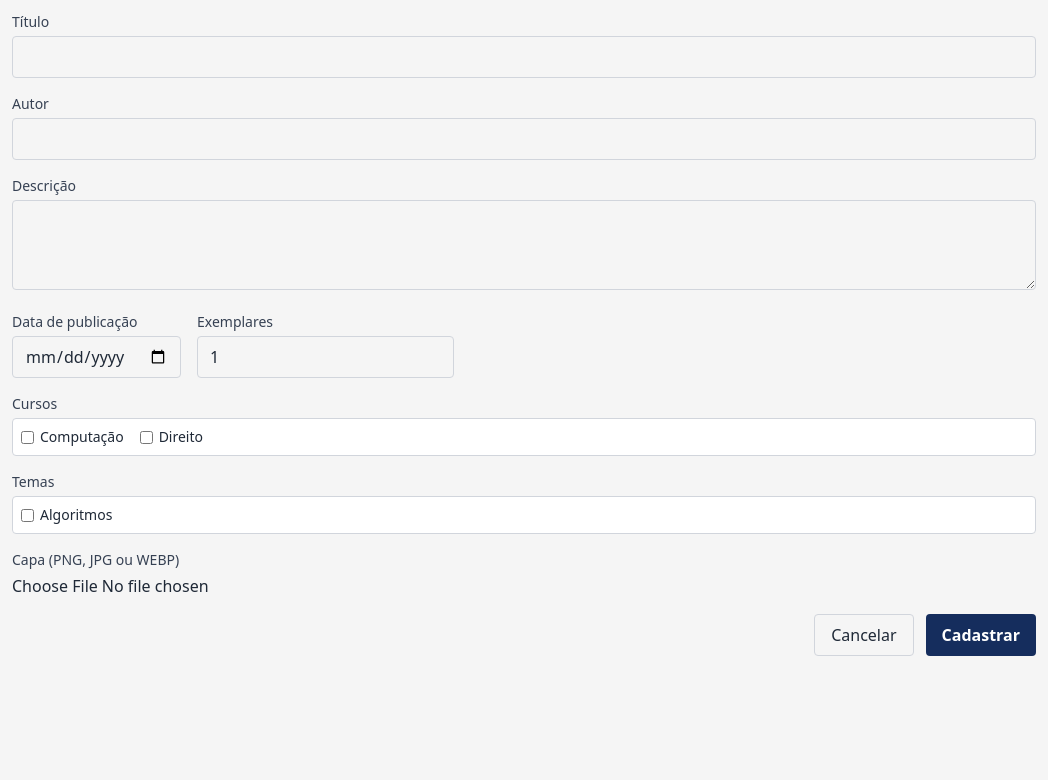
FormMaterial › não envia nada e aponta cada campo obrigatório vazio
Expected: the checkbox labelled "Computação" is shown, [21,430,34,444]
What coordinates should you click on to do the following:
click the button "Cadastrar"
I would click on:
 (981, 635)
Its box is [926,614,1036,656].
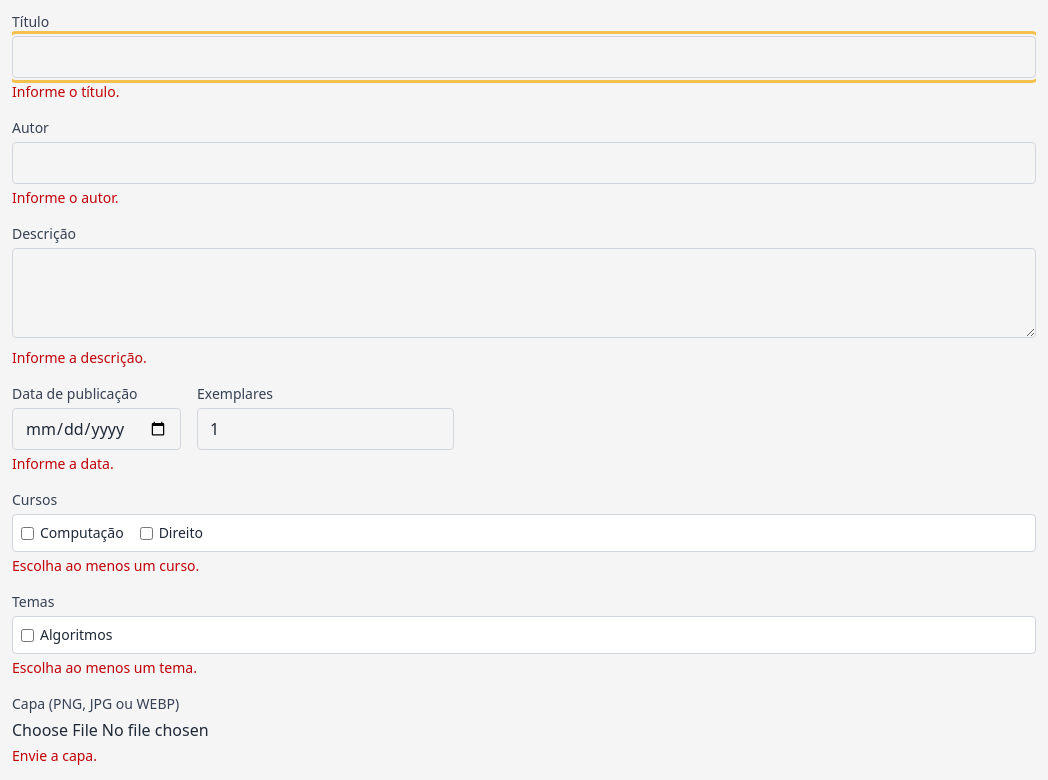
Expected: the text "Informe o título." is shown, [12,82,119,101]
Expected: the text "Escolha ao menos um curso." is shown, [12,556,199,575]
Expected: the text "Escolha ao menos um tema." is shown, [12,658,197,677]
